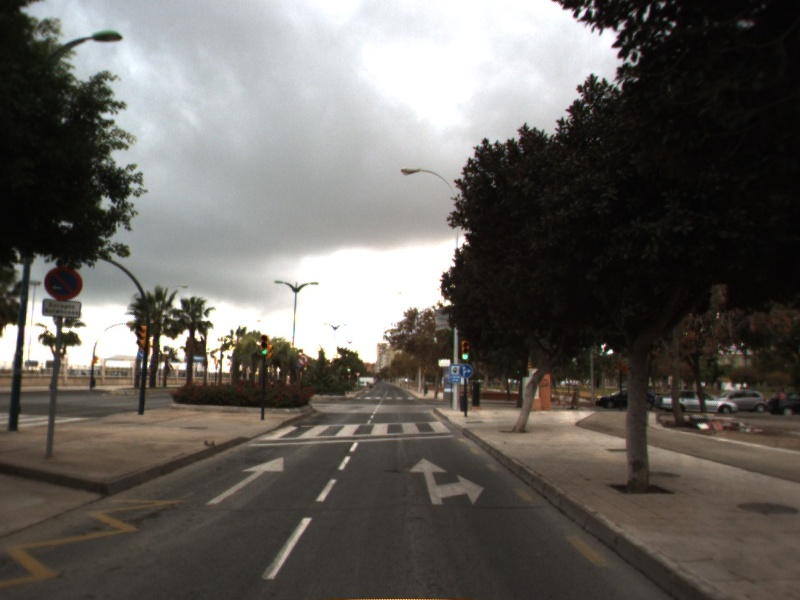STRAIGHT: (205, 453, 286, 507)
STRAIGHT_RIGHT: (407, 456, 488, 508)
